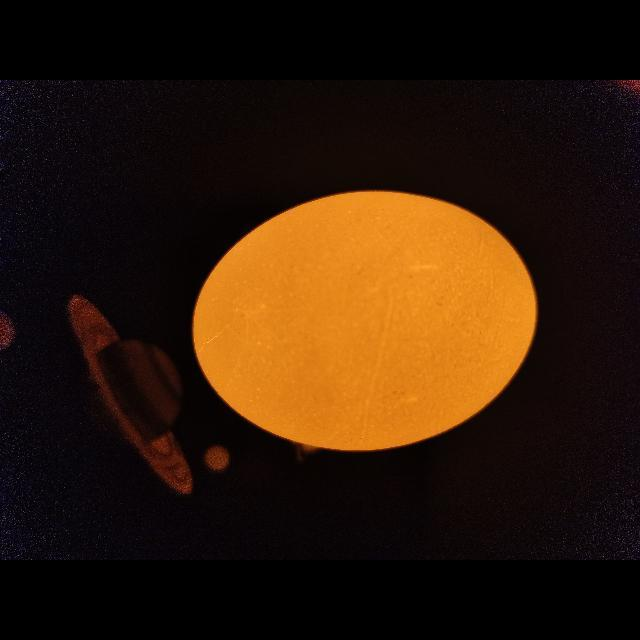AA - Premium: (194, 191, 536, 450)
